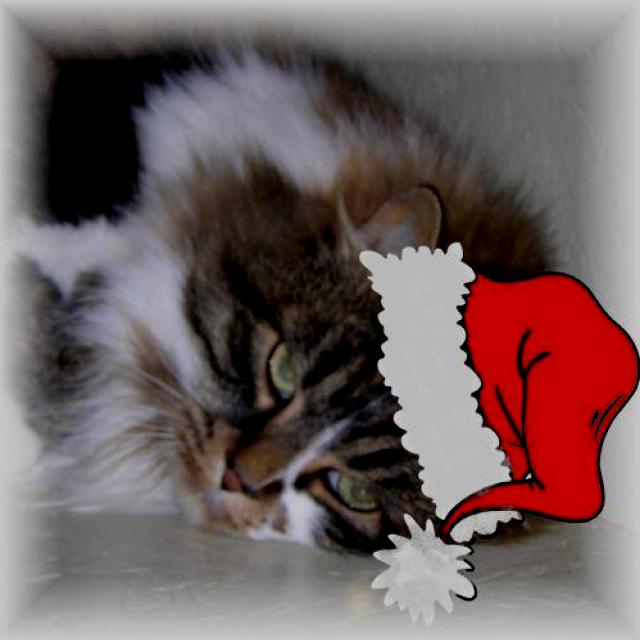Kucing: (23, 20, 640, 591)
